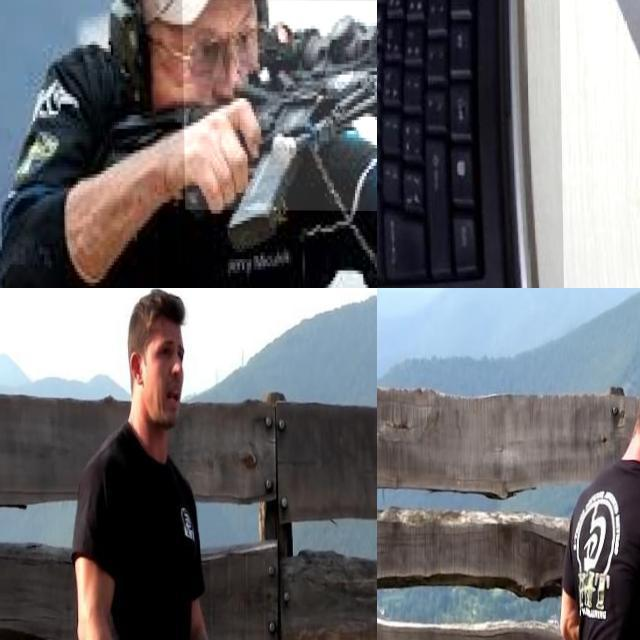-: (557, 0, 640, 288)
gun-knife-thesis - v11 Yolov5 augmented: (181, 0, 377, 212)
